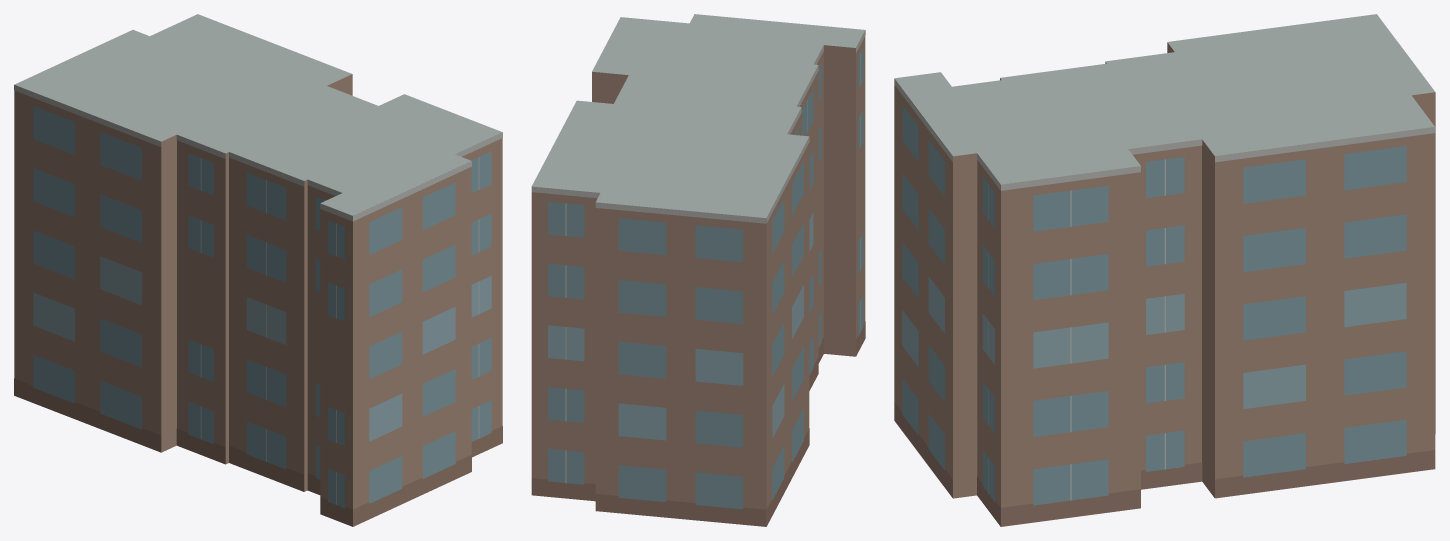
File: survey-upis-32619137.glb
3 renders of one model, left to right at view 1: azimuth 30°, elevation 25°; view 2: azimuth 150°, elevation 25°; view 3: azimuth 270°, elevation 25°, orthographic. The views are drawn at different scales.
Parts seen in each view (by area): view 1: survey-upis-32619137.tmp; view 2: survey-upis-32619137.tmp; view 3: survey-upis-32619137.tmp.
Boxes of the visible parts, x1,y1,x2,y2 form: survey-upis-32619137.tmp: (14,14,502,526); survey-upis-32619137.tmp: (531,14,865,526); survey-upis-32619137.tmp: (894,14,1435,526).
Bounding box in the file's own units: 14.45 × 13.5 × 19.36.
